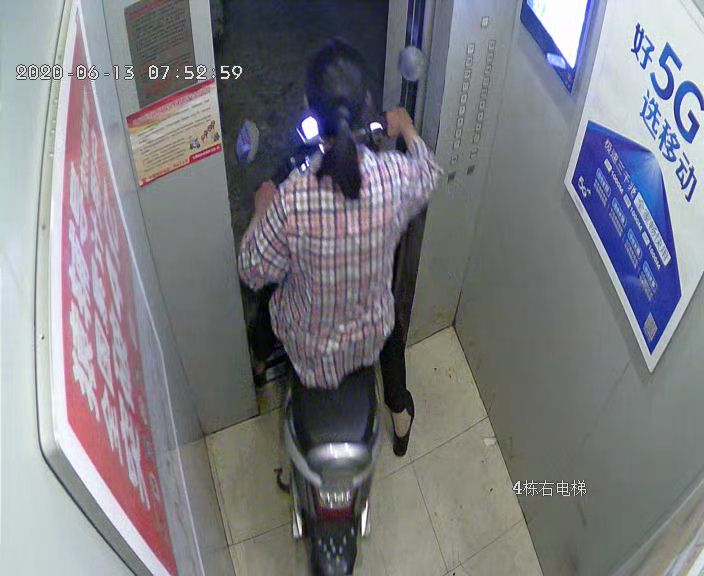Electric-bicycle: (236, 48, 424, 570)
